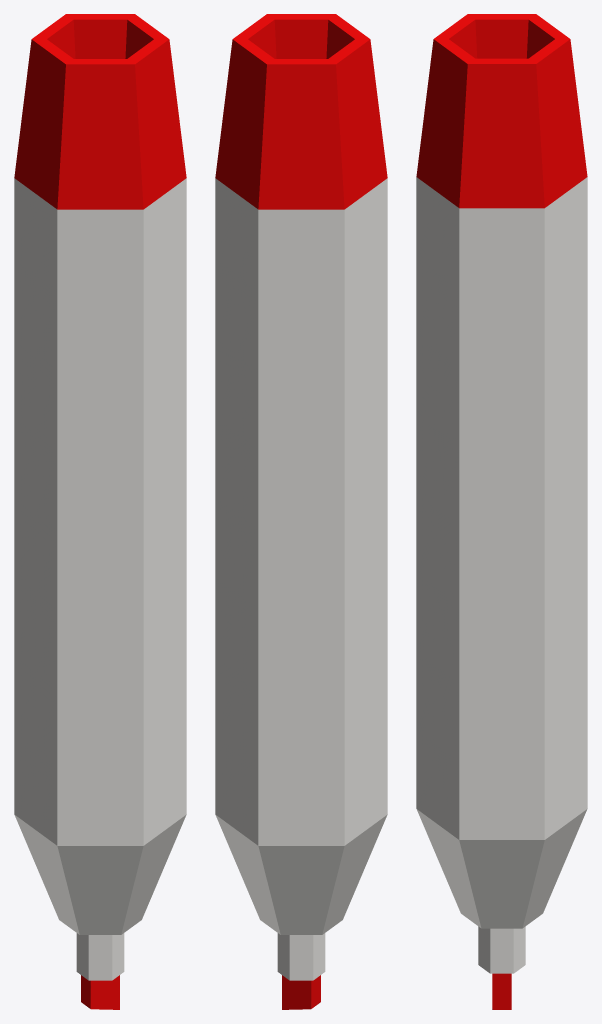
Rendered from marker_red.obj.
3 renders of one model, left to right at view 1: azimuth 30°, elevation 25°; view 2: azimuth 150°, elevation 25°; view 3: azimuth 270°, elevation 25°, orthographic.
Visible parts, largest first — view 1: Cylinder; view 2: Cylinder; view 3: Cylinder.
Part boxes in pixels (x1,y1,x2,y2): Cylinder: [14, 14, 186, 1009]; Cylinder: [215, 14, 387, 1009]; Cylinder: [416, 14, 587, 1009].
Size of the model in its own units: 1.73 by 12.43 by 2.
